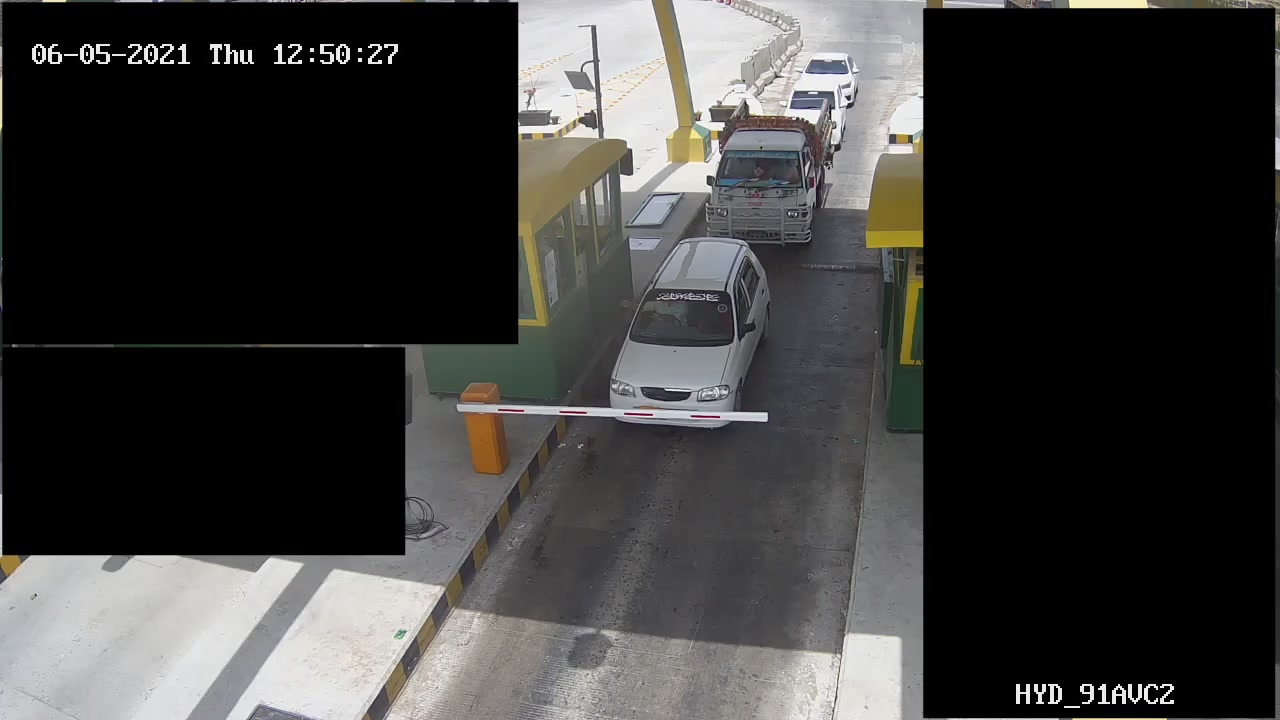F1: (604, 233, 771, 427)
F2: (708, 99, 842, 251)
